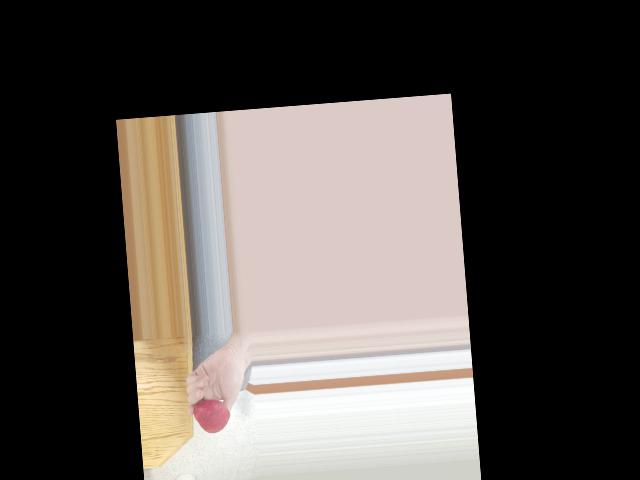apple: (194, 398, 231, 434)
